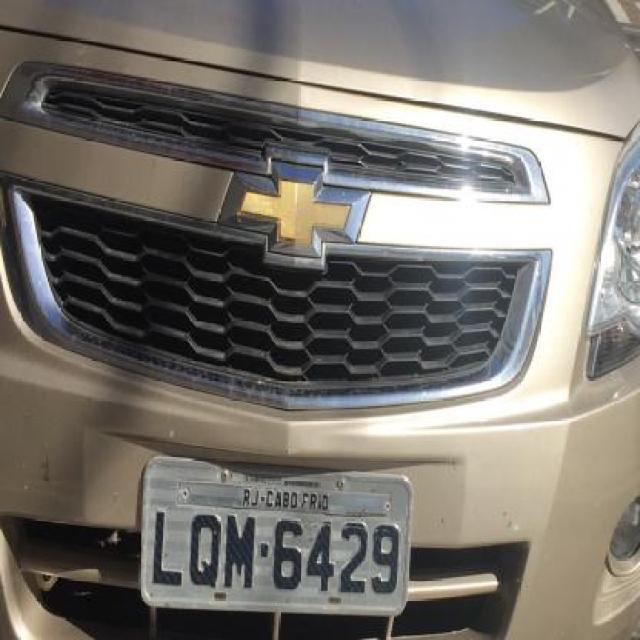old_plate: (132, 449, 418, 622)
